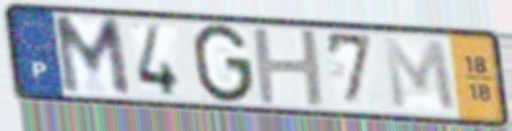4: (132, 21, 185, 100)
7: (324, 29, 377, 112)
G: (191, 21, 257, 106)
H: (248, 27, 330, 108)
M: (49, 14, 135, 100), (379, 35, 461, 116)
